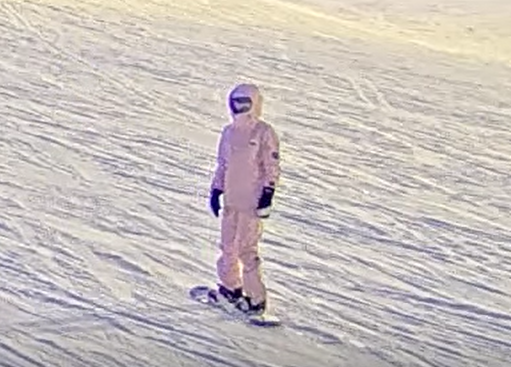snowboarder: (188, 81, 283, 329), (188, 203, 194, 205)
